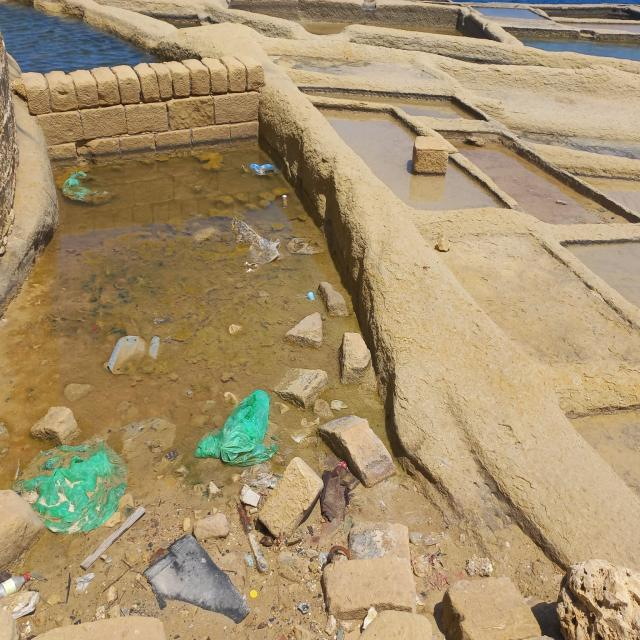Bottle: (0, 571, 31, 599), (408, 531, 444, 547)
Bottle cap: (250, 590, 258, 598), (93, 326, 97, 331)
Broken glass: (343, 516, 352, 534), (136, 602, 142, 607)
Can: (282, 194, 288, 208)
Other litter: (143, 533, 251, 624), (237, 464, 284, 574), (312, 460, 360, 564), (410, 549, 466, 589), (298, 602, 311, 613)
Other plastic: (107, 336, 160, 376), (246, 237, 282, 264), (250, 163, 280, 176), (74, 572, 93, 592), (307, 291, 316, 301)
Plastic bag - wrapper: (11, 435, 131, 535), (193, 390, 279, 464), (61, 170, 110, 202)
Straw: (65, 572, 71, 604)
Styrofoam piece: (362, 604, 377, 632)
